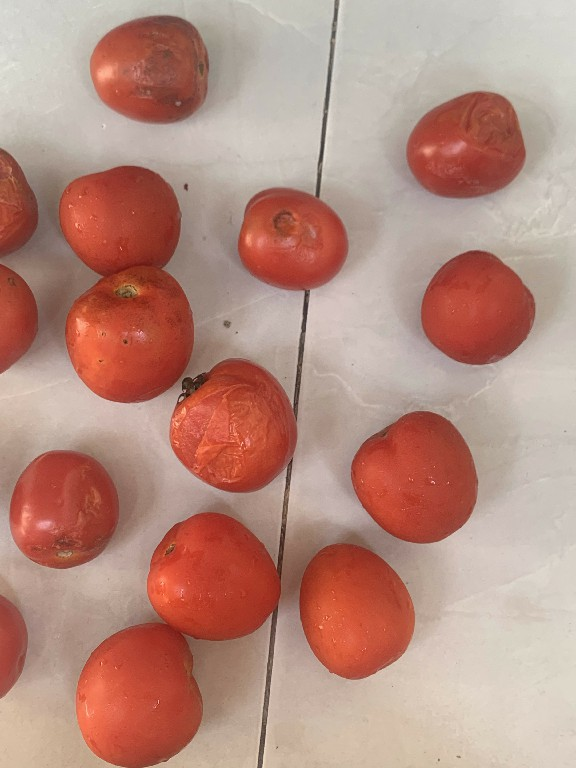NG: (166, 361, 306, 497), (60, 263, 190, 402), (78, 12, 216, 132), (233, 177, 355, 295), (10, 439, 115, 574), (407, 81, 519, 200)
OK: (72, 618, 219, 768), (146, 502, 286, 644), (299, 535, 426, 690), (348, 408, 490, 535), (421, 248, 540, 366), (59, 159, 190, 266)
